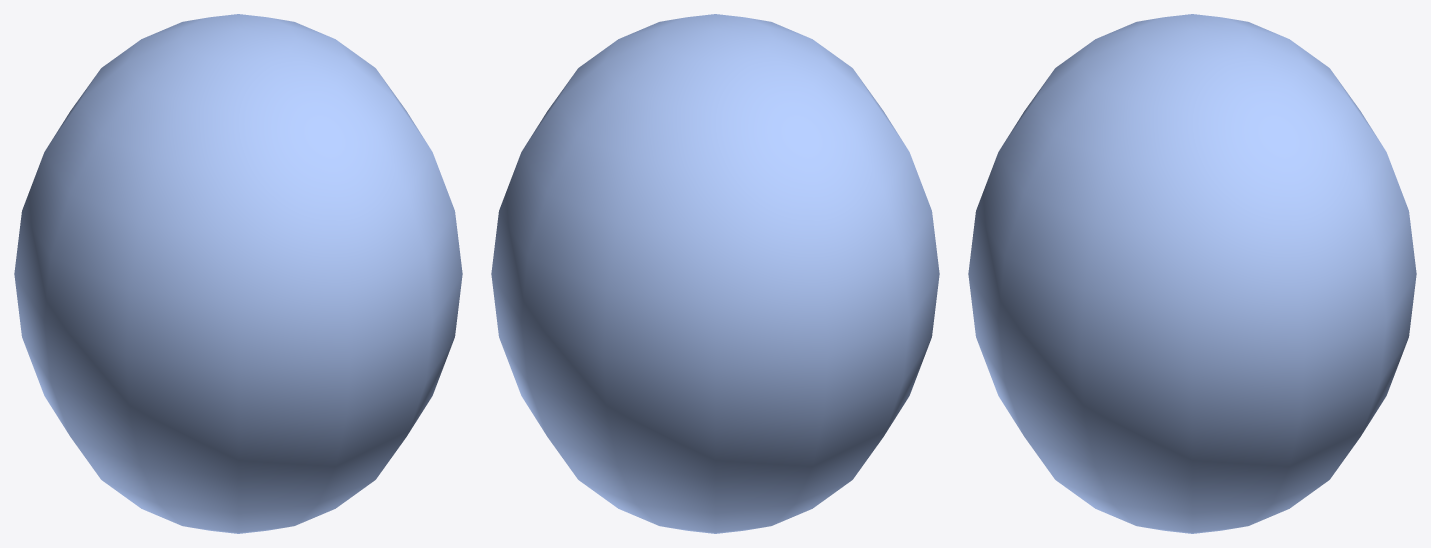
The model's file is Crystalis_stage2.obj.
The picture shows the model from 3 angles, left to right: view 1: azimuth 30°, elevation 25°; view 2: azimuth 150°, elevation 25°; view 3: azimuth 270°, elevation 25°; orthographic projection.
Bounding box in the file's own units: 2 × 2.4 × 2.
